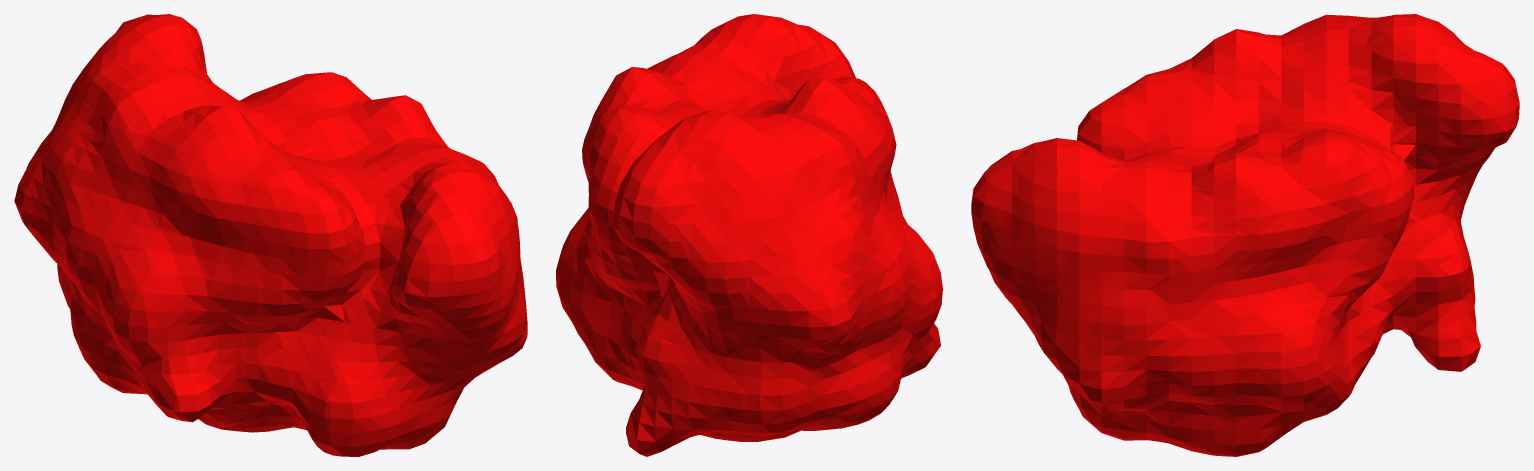
File: ydjA_coarse.dae
3 views of the same model, side by side, from view 1: azimuth 30°, elevation 25°; view 2: azimuth 150°, elevation 25°; view 3: azimuth 270°, elevation 25° (orthographic). The views are drawn at different scales.
Parts seen in each view (by area): view 1: ydjA; view 2: ydjA; view 3: ydjA.
Boxes of the visible parts, bbox=[...] form: ydjA: bbox=[14, 14, 527, 456]; ydjA: bbox=[556, 14, 942, 456]; ydjA: bbox=[971, 14, 1519, 456].
Size of the model in its own units: 51.65 by 50.51 by 67.05.
